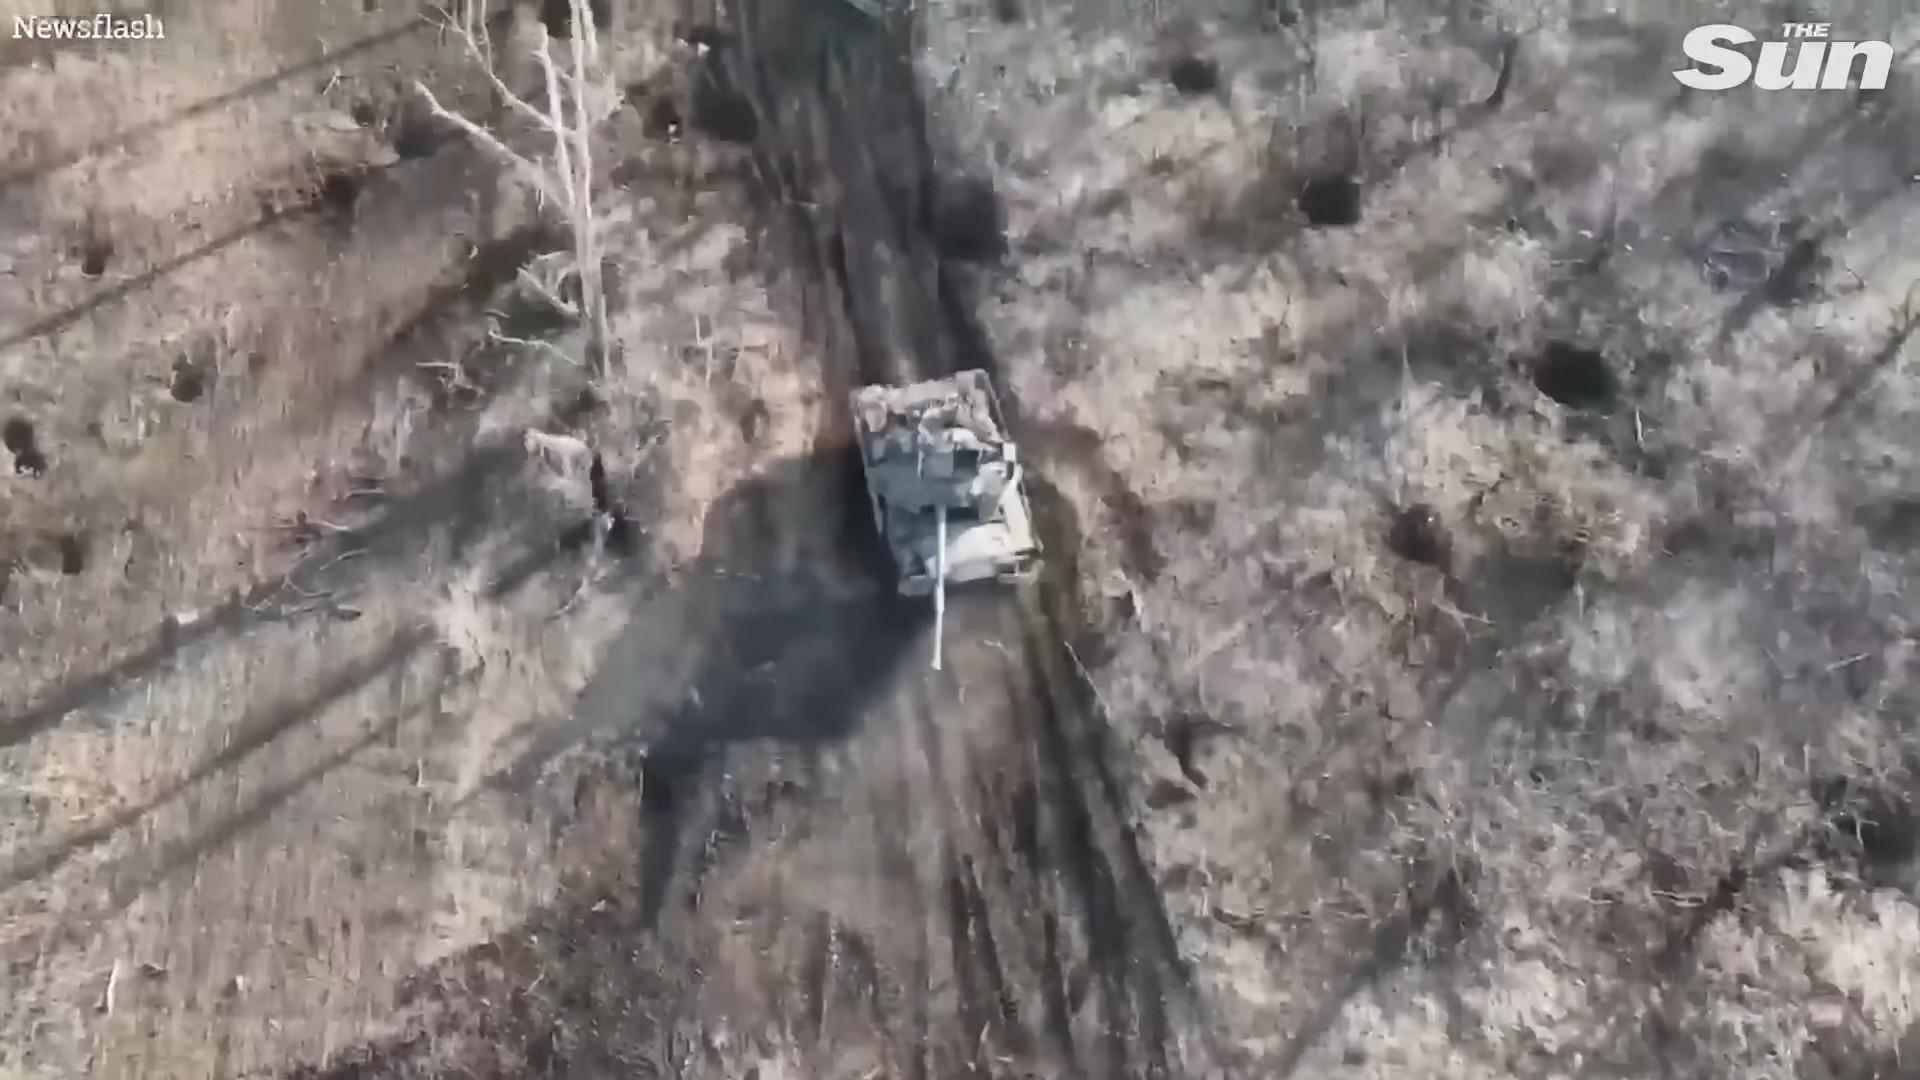tank: (847, 368, 1044, 670)
